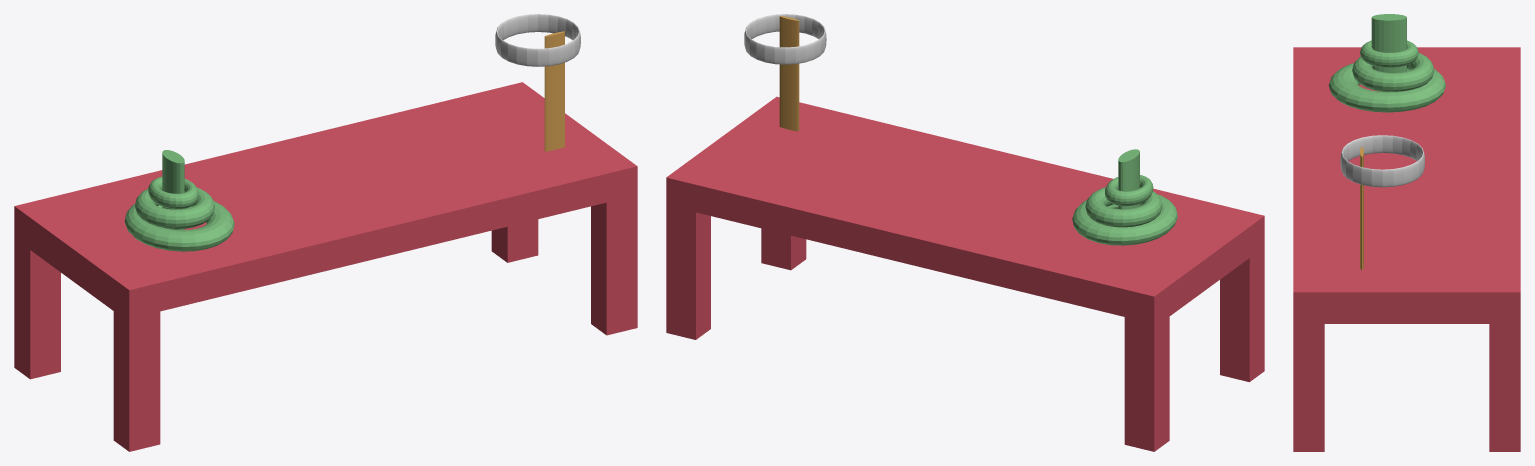
File: Table and Lamp.glb
3 views of the same model, side by side, from view 1: azimuth 30°, elevation 25°; view 2: azimuth 150°, elevation 25°; view 3: azimuth 270°, elevation 25° (orthographic). The views are drawn at different scales.
Visible parts, largest first — view 1: Mesh_Mesh_head_geo.001_lambert2SG.001; view 2: Mesh_Mesh_head_geo.001_lambert2SG.001; view 3: Mesh_Mesh_head_geo.001_lambert2SG.001.
Part boxes in pixels (x1,y1,x2,y2): Mesh_Mesh_head_geo.001_lambert2SG.001: [14, 14, 637, 451]; Mesh_Mesh_head_geo.001_lambert2SG.001: [666, 14, 1264, 451]; Mesh_Mesh_head_geo.001_lambert2SG.001: [1293, 14, 1520, 451].
Size of the model in its own units: 148 by 78 by 58.
